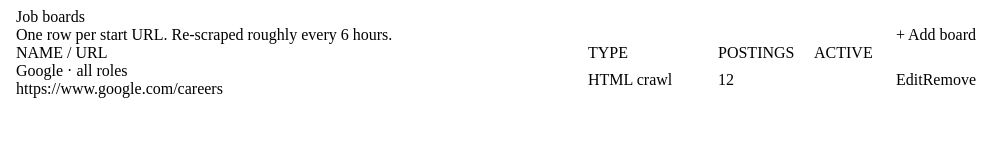
Test: AdminBoards › shows the API's message when a delete fails
Click the button "Remove" at (949, 80), box [923,71,976,89]
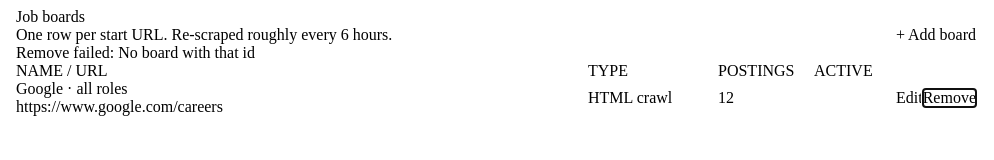
Expected: the text "Remove failed: No board with that id" is shown, [16,44,255,61]
